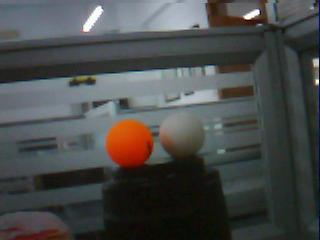oball: (106, 120, 151, 167)
